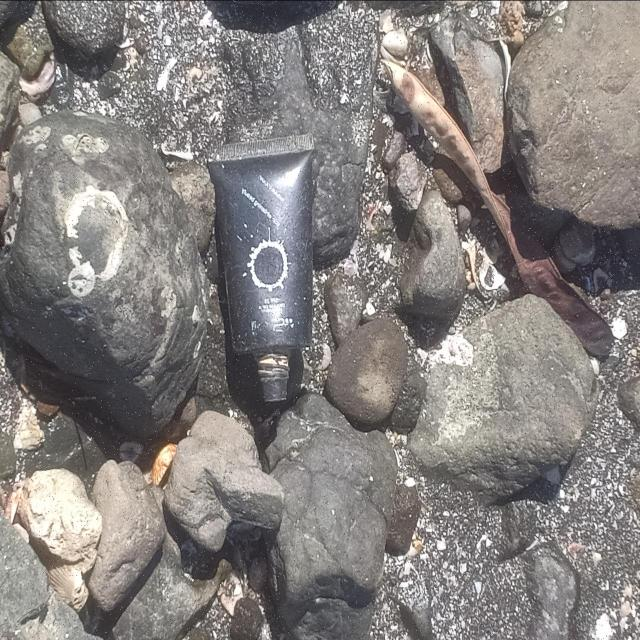plastic_waste: (207, 134, 316, 403)
